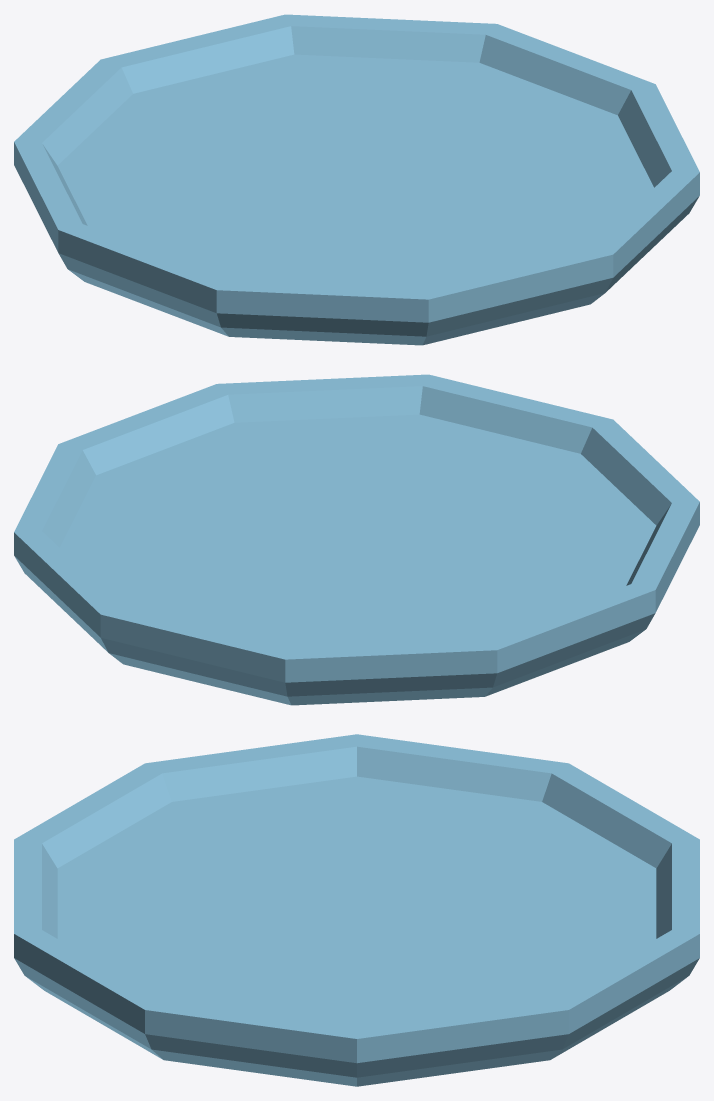
Rendered from KAC_Micro_Tray_V2.fbx.
3 views of the same model, one above another, from view 1: azimuth 30°, elevation 25°; view 2: azimuth 150°, elevation 25°; view 3: azimuth 270°, elevation 25° (orthographic). The views are drawn at different scales.
Parts seen in each view (by area): view 1: KAC_Micro_Tray_V2; view 2: KAC_Micro_Tray_V2; view 3: KAC_Micro_Tray_V2.
Part boxes in pixels (x1=…): KAC_Micro_Tray_V2: x1=14, y1=14, x2=699, y2=345; KAC_Micro_Tray_V2: x1=14, y1=374, x2=699, y2=705; KAC_Micro_Tray_V2: x1=14, y1=734, x2=699, y2=1086.
Bounding box in the file's own units: 17.77 × 1.66 × 16.9.
